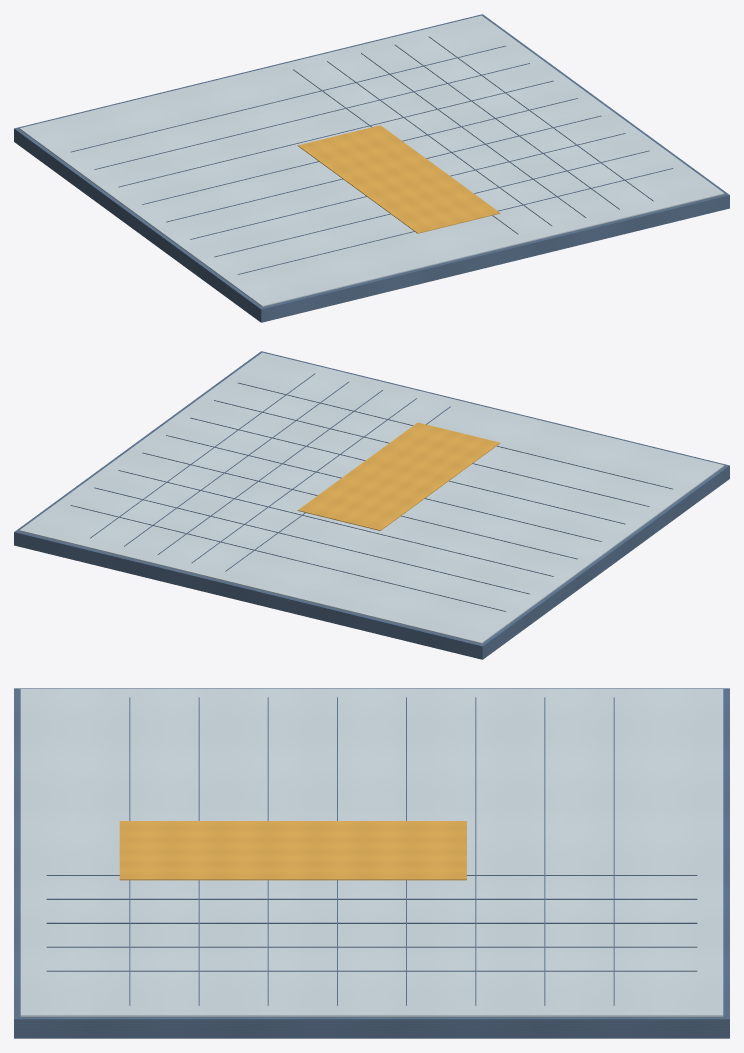
Rendered from atlas100-s055-a07.lod2.glb.
3 renders of one model, top to bottom at view 1: azimuth 30°, elevation 25°; view 2: azimuth 150°, elevation 25°; view 3: azimuth 270°, elevation 25°, orthographic. The views are drawn at different scales.
Parts seen in each view (by area): view 1: atlas100-s055-a07:part-001, atlas100-s055-a07:part-000, atlas100-s055-a07:part-021, atlas100-s055-a07:part-015, atlas100-s055-a07:part-013, atlas100-s055-a07:part-014, atlas100-s055-a07:part-017, atlas100-s055-a07:part-016, atlas100-s055-a07:part-018, atlas100-s055-a07:part-019, atlas100-s055-a07:part-020; view 2: atlas100-s055-a07:part-001, atlas100-s055-a07:part-000, atlas100-s055-a07:part-021, atlas100-s055-a07:part-013, atlas100-s055-a07:part-014, atlas100-s055-a07:part-015, atlas100-s055-a07:part-016, atlas100-s055-a07:part-018, atlas100-s055-a07:part-019, atlas100-s055-a07:part-017, atlas100-s055-a07:part-020; view 3: atlas100-s055-a07:part-001, atlas100-s055-a07:part-000, atlas100-s055-a07:part-021, atlas100-s055-a07:part-009, atlas100-s055-a07:part-011, atlas100-s055-a07:part-012, atlas100-s055-a07:part-010, atlas100-s055-a07:part-013, atlas100-s055-a07:part-014, atlas100-s055-a07:part-015.
Boxes of the visible parts, left/top/right/bottom form: atlas100-s055-a07:part-001: left=19, top=15, right=724, bottom=306; atlas100-s055-a07:part-000: left=14, top=14, right=729, bottom=322; atlas100-s055-a07:part-021: left=297, top=125, right=500, bottom=233; atlas100-s055-a07:part-015: left=118, top=80, right=553, bottom=187; atlas100-s055-a07:part-013: left=71, top=45, right=505, bottom=152; atlas100-s055-a07:part-014: left=94, top=63, right=529, bottom=169; atlas100-s055-a07:part-017: left=166, top=115, right=601, bottom=222; atlas100-s055-a07:part-016: left=142, top=98, right=577, bottom=204; atlas100-s055-a07:part-018: left=190, top=133, right=625, bottom=239; atlas100-s055-a07:part-019: left=214, top=150, right=649, bottom=257; atlas100-s055-a07:part-020: left=238, top=168, right=673, bottom=274; atlas100-s055-a07:part-001: left=19, top=352, right=724, bottom=643; atlas100-s055-a07:part-000: left=14, top=351, right=729, bottom=659; atlas100-s055-a07:part-021: left=297, top=422, right=500, bottom=530; atlas100-s055-a07:part-013: left=70, top=505, right=505, bottom=611; atlas100-s055-a07:part-014: left=94, top=487, right=529, bottom=594; atlas100-s055-a07:part-015: left=118, top=470, right=553, bottom=576; atlas100-s055-a07:part-016: left=142, top=452, right=577, bottom=559; atlas100-s055-a07:part-018: left=190, top=417, right=625, bottom=524; atlas100-s055-a07:part-019: left=214, top=400, right=649, bottom=506; atlas100-s055-a07:part-017: left=166, top=435, right=601, bottom=541; atlas100-s055-a07:part-020: left=238, top=382, right=672, bottom=489; atlas100-s055-a07:part-001: left=20, top=689, right=723, bottom=1016; atlas100-s055-a07:part-000: left=14, top=688, right=729, bottom=1038; atlas100-s055-a07:part-021: left=119, top=821, right=466, bottom=880; atlas100-s055-a07:part-009: left=46, top=898, right=697, bottom=899; atlas100-s055-a07:part-011: left=46, top=946, right=697, bottom=947; atlas100-s055-a07:part-012: left=46, top=970, right=697, bottom=971; atlas100-s055-a07:part-010: left=46, top=922, right=697, bottom=923; atlas100-s055-a07:part-013: left=613, top=697, right=614, bottom=1005; atlas100-s055-a07:part-014: left=544, top=697, right=545, bottom=1005; atlas100-s055-a07:part-015: left=475, top=697, right=476, bottom=1005.
Bounding box in the file's own units: 12.46 × 0.404 × 11.39.
3 materials, 3 textured.
